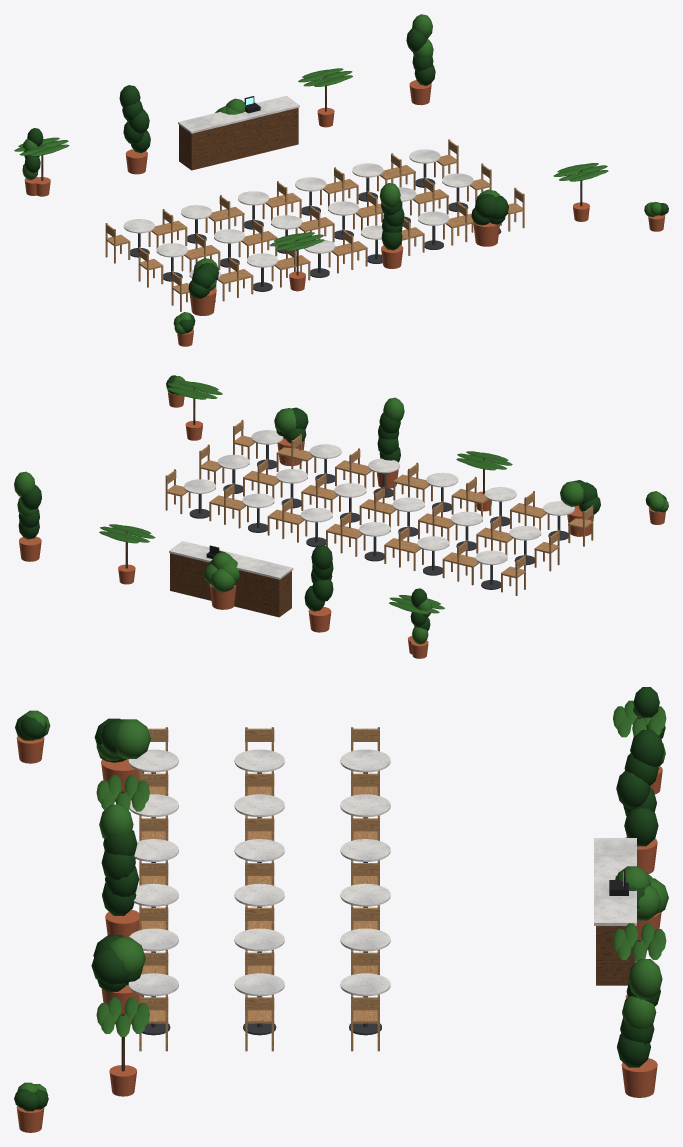
File: i_greenhouse_cafe.gltf
3 renders of one model, top to bottom at view 1: azimuth 30°, elevation 25°; view 2: azimuth 150°, elevation 25°; view 3: azimuth 270°, elevation 25°, orthographic. The views are drawn at different scales.
Visible parts, largest first — view 1: I_greenhouse_cafe; view 2: I_greenhouse_cafe; view 3: I_greenhouse_cafe.
Part boxes in pixels (box(x1,y1,x2,y2)): I_greenhouse_cafe: box(14, 14, 668, 346); I_greenhouse_cafe: box(14, 375, 668, 658); I_greenhouse_cafe: box(14, 687, 668, 1132).
Bounding box in the file's own units: 13.75 × 2.26 × 9.89.
Materials: 11 (4 with a texture image).
